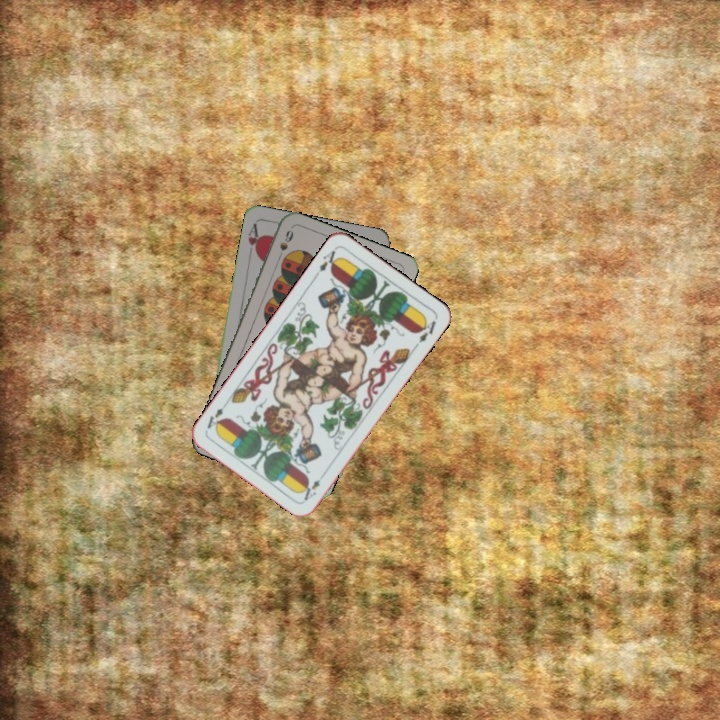EA: (311, 246, 342, 280), (298, 468, 328, 503)
HA: (244, 220, 263, 259)
S9: (273, 226, 296, 264)
